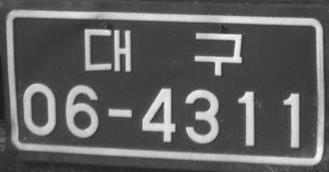0: (21, 81, 56, 135)
1: (233, 89, 265, 146), (277, 92, 309, 149)
3: (184, 87, 220, 144)
4: (141, 88, 176, 142)
6: (64, 83, 98, 137)
대구_D: (83, 26, 243, 76)
